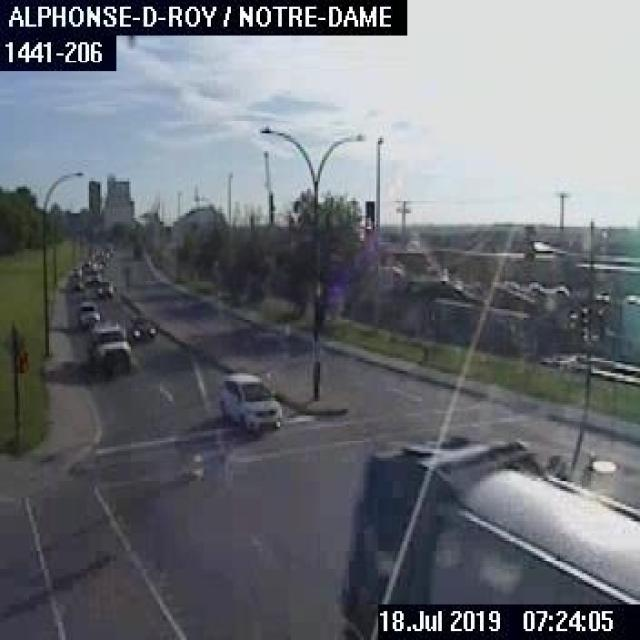vehicle: (336, 429, 638, 638), (373, 600, 638, 638), (214, 371, 284, 433), (87, 318, 133, 376), (128, 312, 158, 342), (75, 299, 102, 330), (94, 276, 114, 299)
